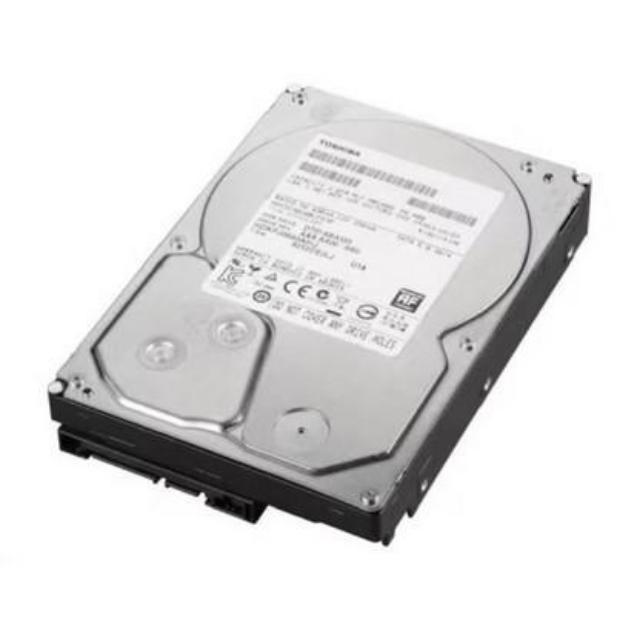DISK: (46, 76, 594, 538)
